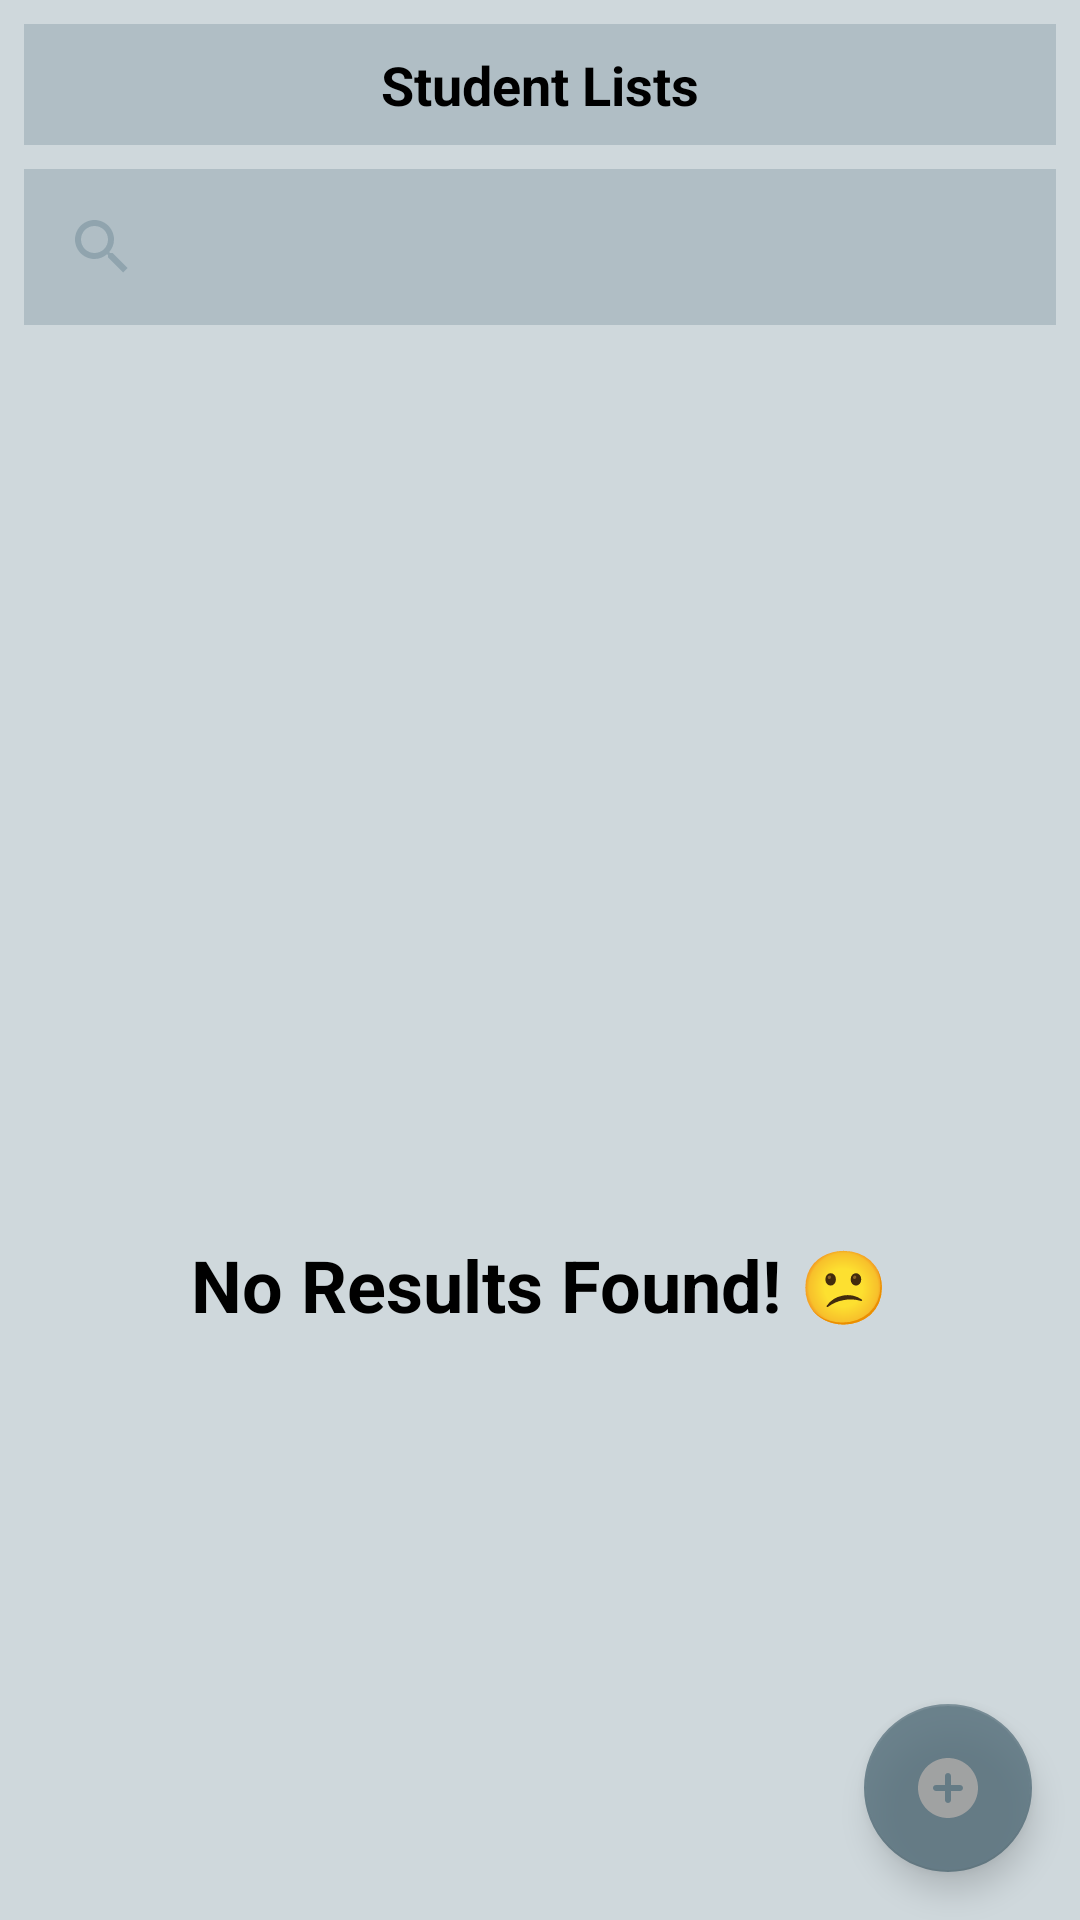

Icons on this 1080 × 1920 Android screen, each with its box as (x1, y1, x2, y2):
add stud: (864, 1704, 1032, 1872)
